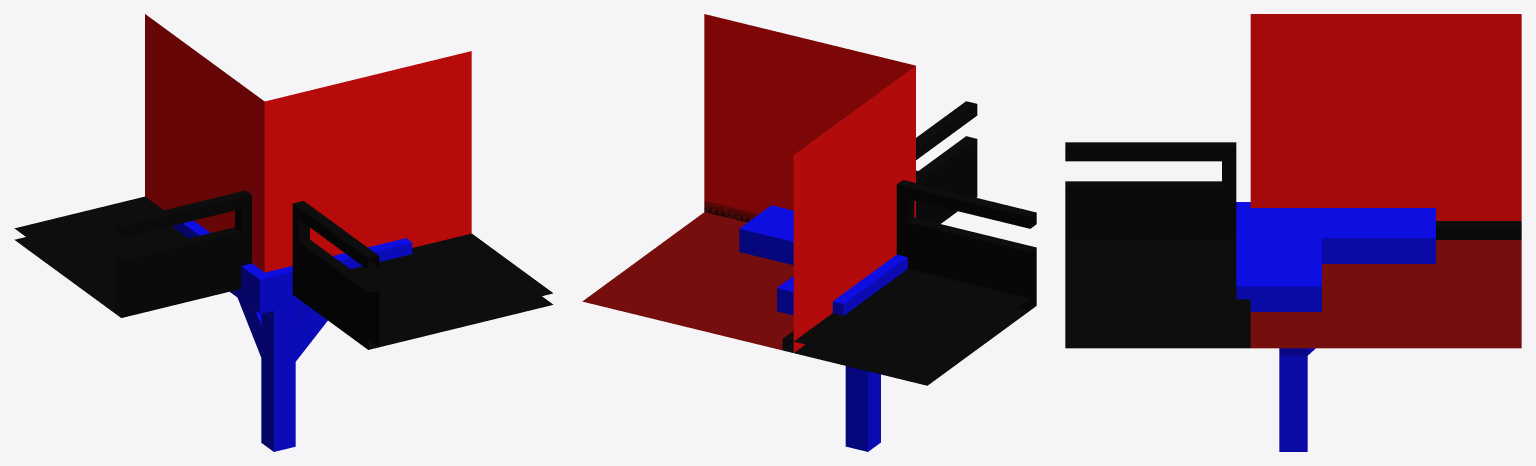
File: BigStrut_E_P_A_E_P_E_E_E_None.fbx
3 views of the same model, side by side, from view 1: azimuth 30°, elevation 25°; view 2: azimuth 150°, elevation 25°; view 3: azimuth 270°, elevation 25° (orthographic). The views are drawn at different scales.
Visible parts, largest first — view 1: BigStrut_E_P_A_E_P_E_E_E_None; view 2: BigStrut_E_P_A_E_P_E_E_E_None; view 3: BigStrut_E_P_A_E_P_E_E_E_None.
Part boxes in pixels (bbox=[...]): BigStrut_E_P_A_E_P_E_E_E_None: bbox=[14, 14, 553, 451]; BigStrut_E_P_A_E_P_E_E_E_None: bbox=[582, 14, 1036, 451]; BigStrut_E_P_A_E_P_E_E_E_None: bbox=[1065, 14, 1521, 451].
Size of the model in its own units: 96.88 by 100 by 100.
